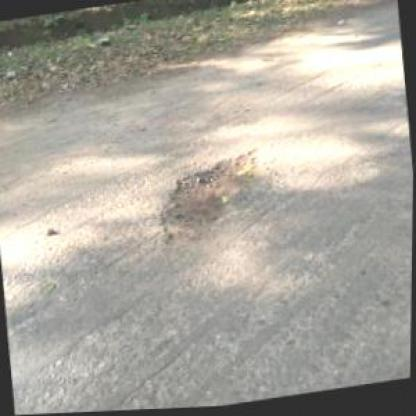pothole: (149, 145, 278, 252)
